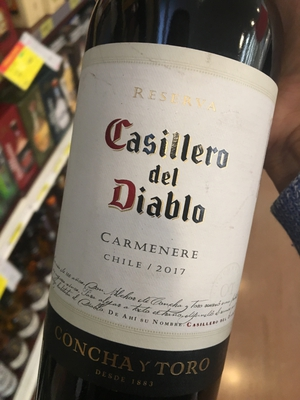casillero del diablo carmenere: (42, 22, 278, 400)
